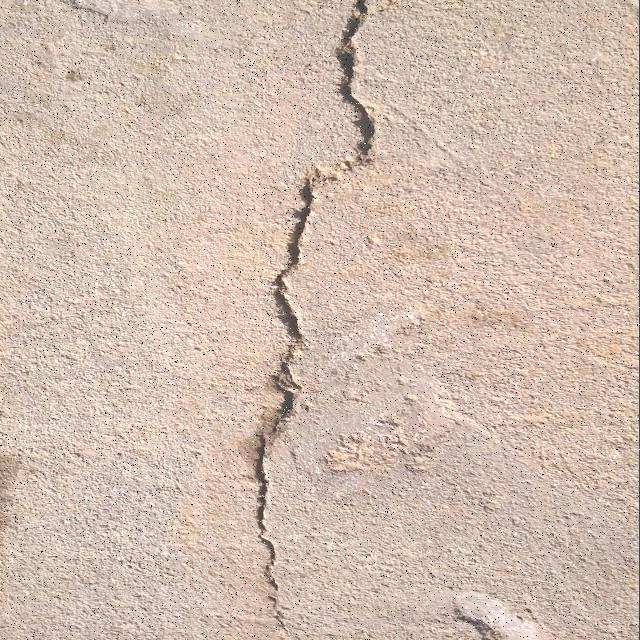Crack: (255, 0, 375, 592), (270, 596, 302, 640)
